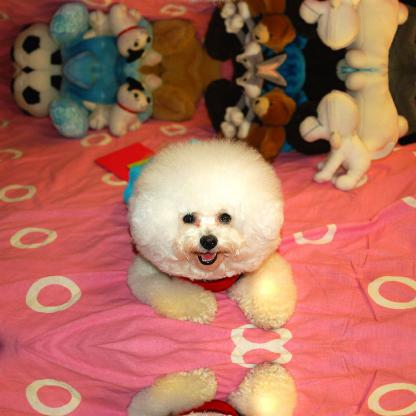Dog: (128, 132, 296, 332), (128, 359, 297, 415), (299, 88, 395, 186), (299, 0, 396, 50), (84, 74, 152, 136), (84, 2, 152, 64)
